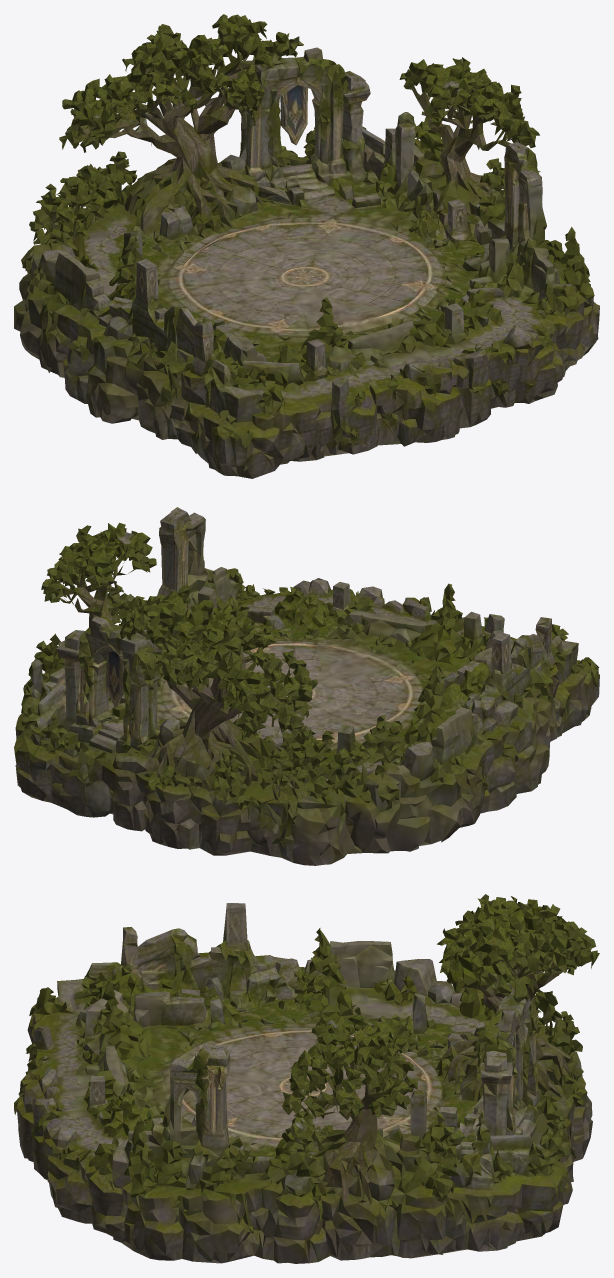
Rendered from earth.glb.
3 views of the same model, one above another, from view 1: azimuth 30°, elevation 25°; view 2: azimuth 150°, elevation 25°; view 3: azimuth 270°, elevation 25° (orthographic). The views are drawn at different scales.
Parts seen in each view (by area): view 1: output_unwrapped; view 2: output_unwrapped; view 3: output_unwrapped.
Part boxes in pixels (x1,y1,x2,y2): output_unwrapped: (14, 14, 599, 478); output_unwrapped: (14, 507, 599, 865); output_unwrapped: (14, 894, 599, 1263).
Size of the model in its own units: 19.25 by 9.17 by 20.
1 material, 1 textured.
